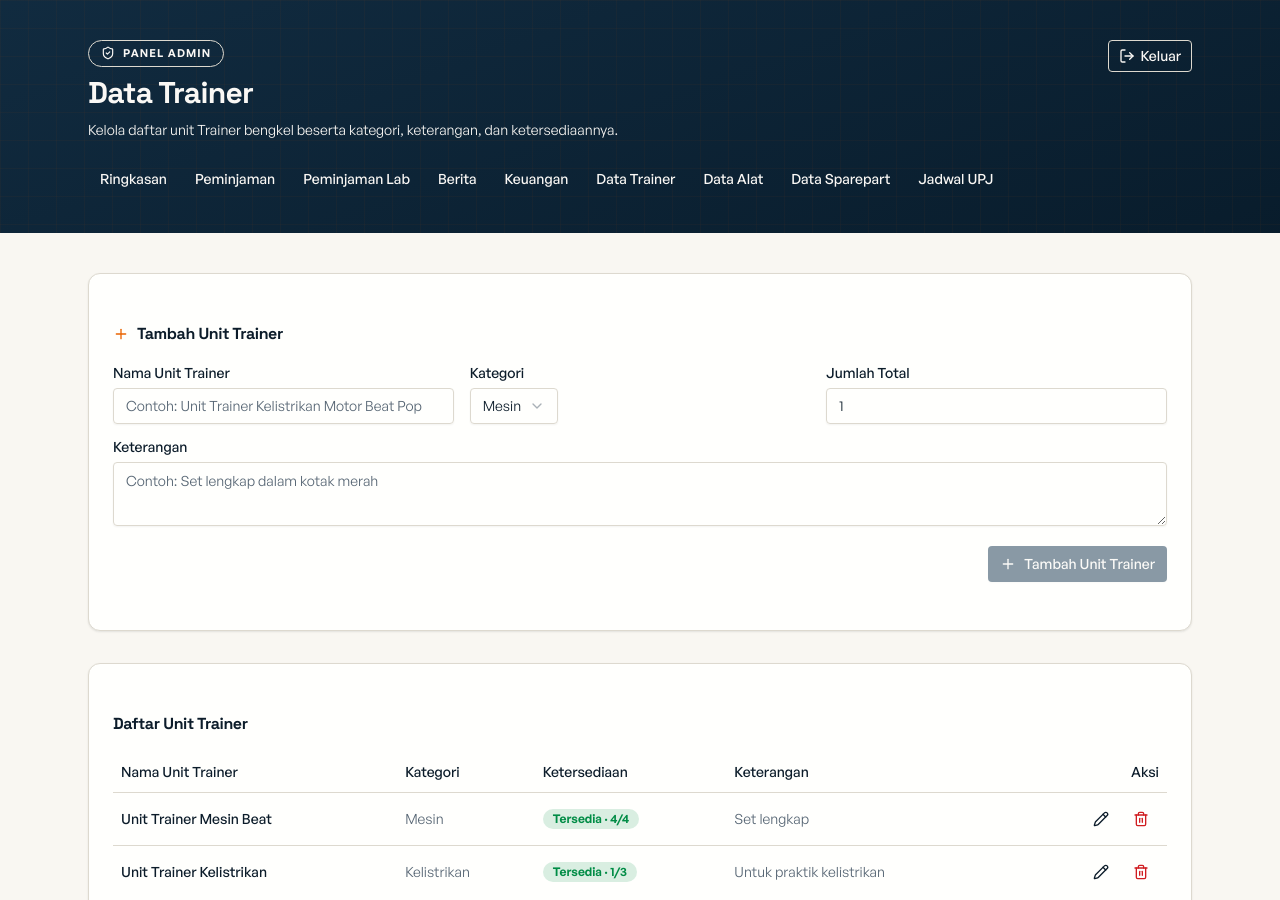
Test: AdminTrainer CRUD › loads an existing Trainer unit into the form for editing
The width and height of the screenshot is (1280, 900).
Click the button with test id "trainer.edit_button.1" at (1101, 819), box [1083,801,1119,837]
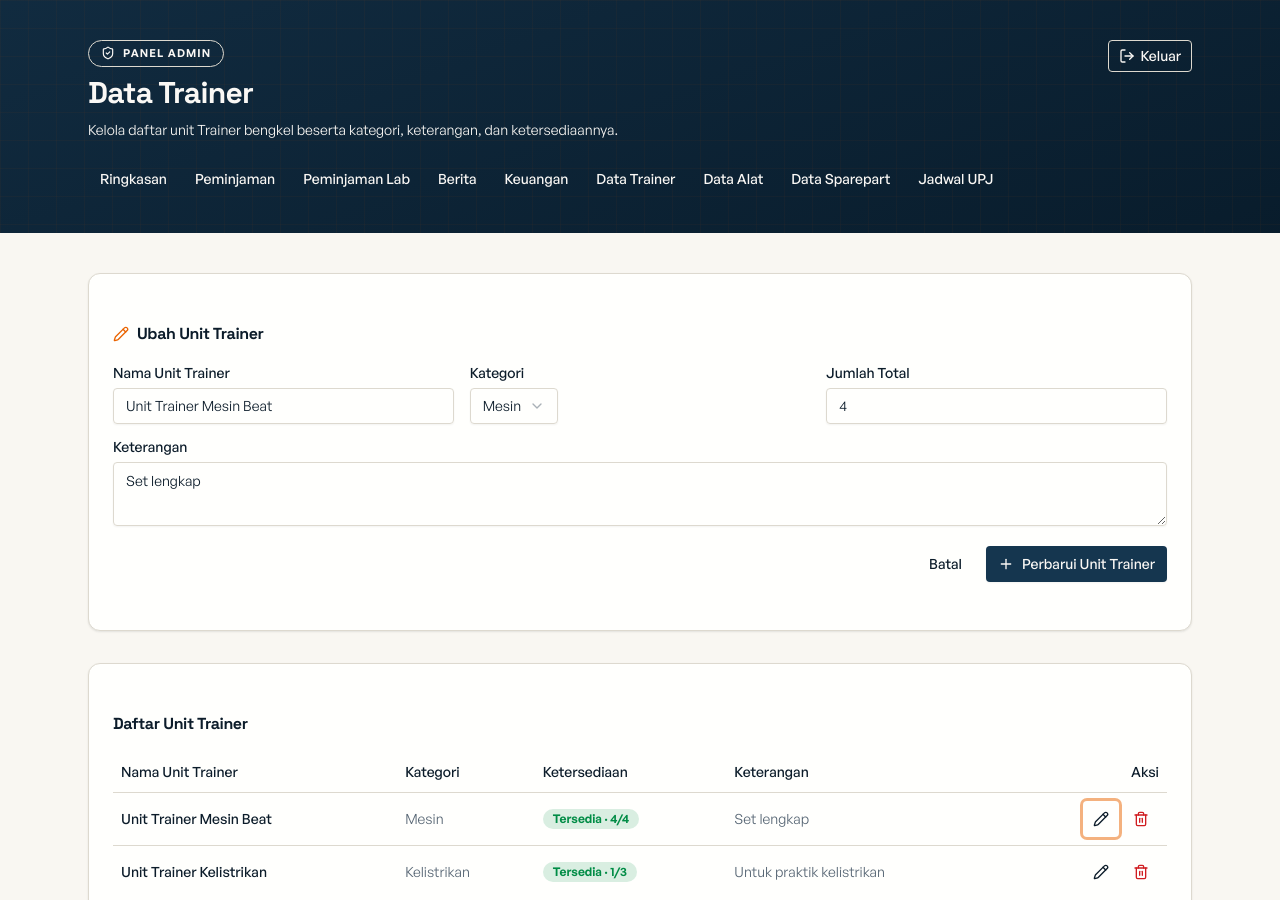
Expected: the field with test id "trainer.nama.input" holds "Unit Trainer Mesin Beat", [113,388,454,424]
Expected: the number field with test id "trainer.total.input" holds "4", [826,388,1167,424]
Expected: the button "Perbarui Unit Trainer" is shown, [986,546,1167,582]
